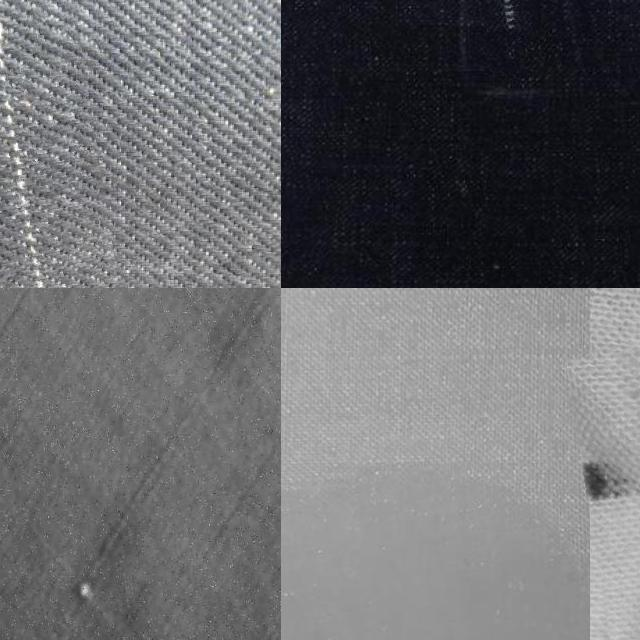other: (55, 560, 116, 622)
stains: (475, 0, 577, 80)
